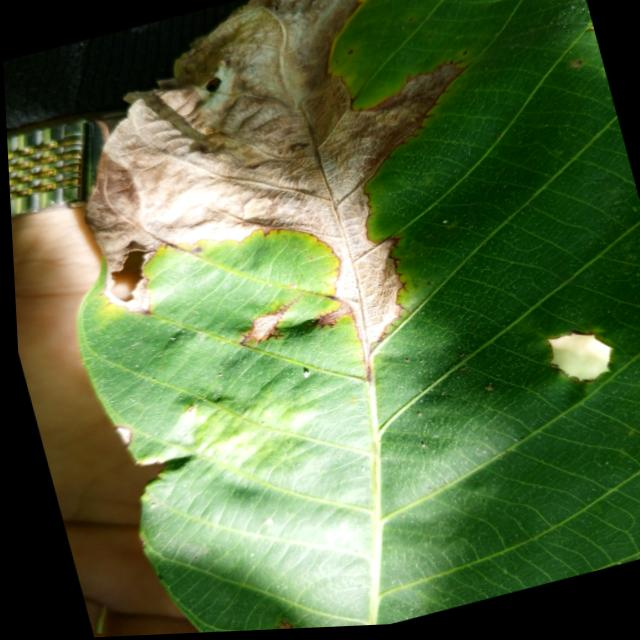Corynespora: (226, 297, 304, 352), (299, 310, 341, 338)
Leaf-Blight: (37, 0, 527, 425), (231, 620, 332, 633)
